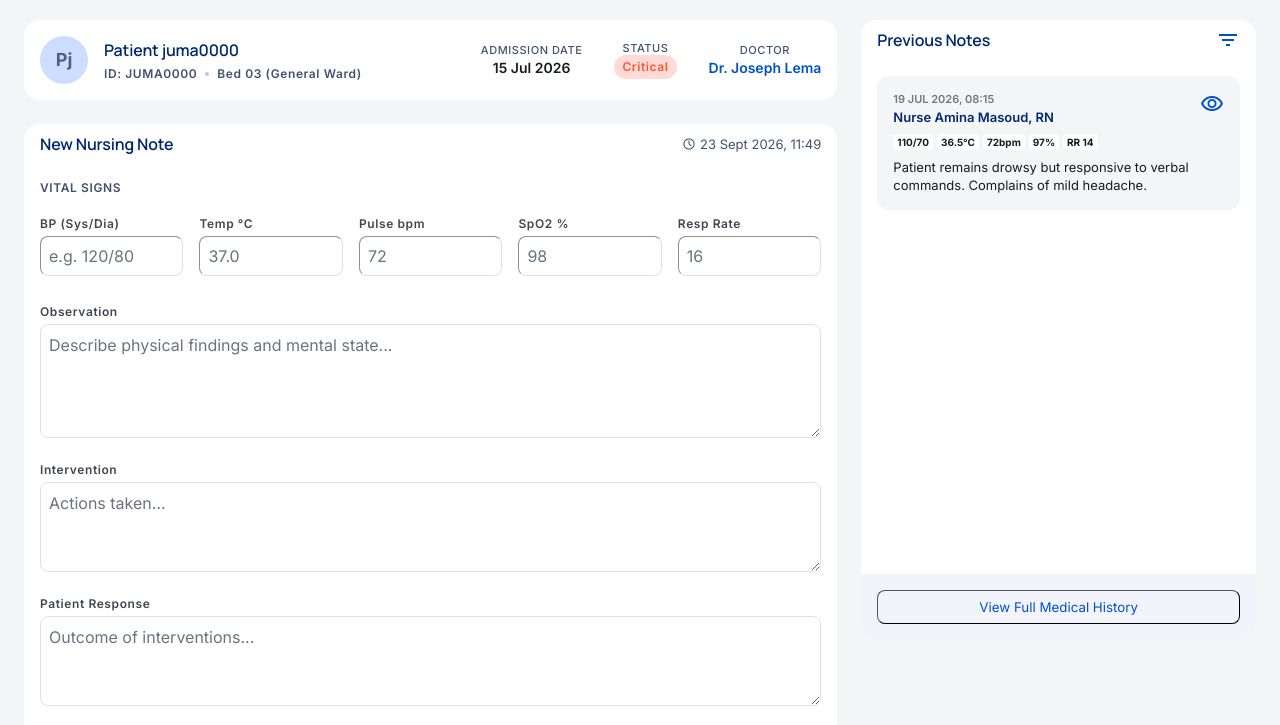
Test: NursingNotesPage › submits a new nursing note entry successfully
Type "Patient is stable." into the text box labelled "Observation".
click(431, 381); type("Patient is stable.")  # box [40,324,821,438]
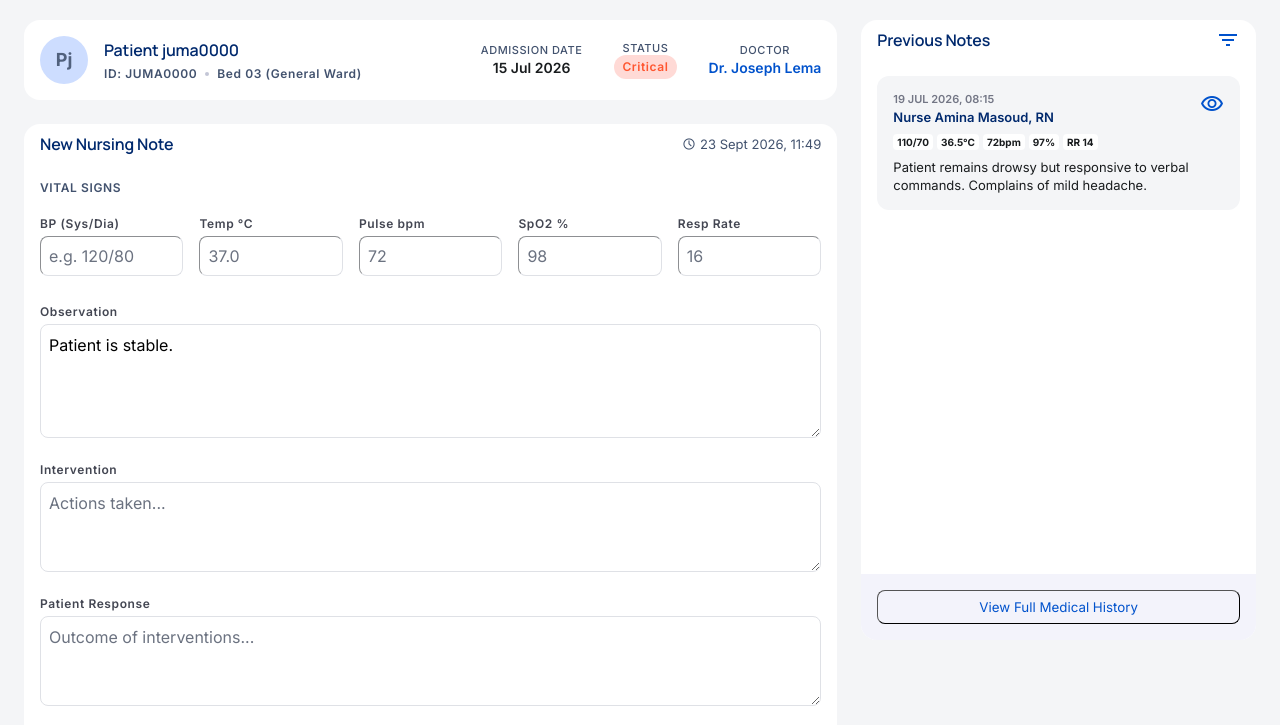
Type "Administered oral fluids." into the text box labelled "Intervention".
click(431, 527); type("Administered oral fluids.")  # box [40,482,821,572]
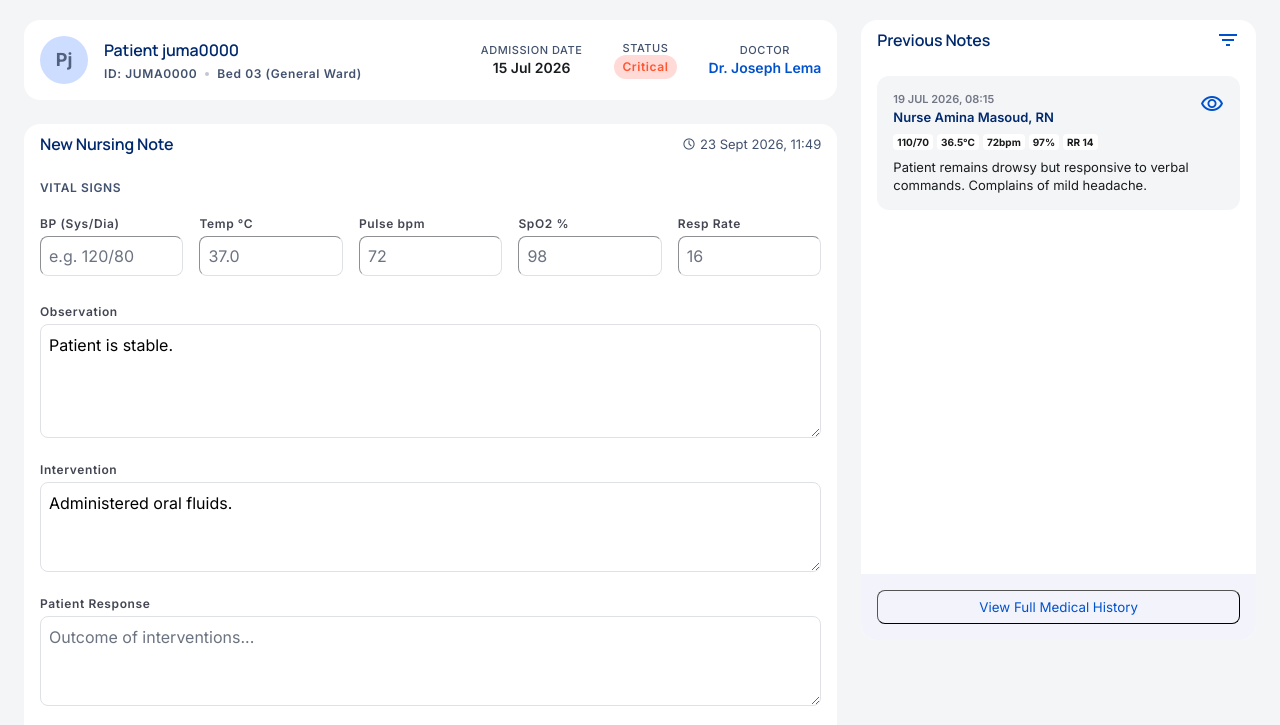
Type "No adverse reaction." into the text box labelled "Patient Response".
click(431, 661); type("No adverse reaction.")  # box [40,616,821,706]
(page scrolled)
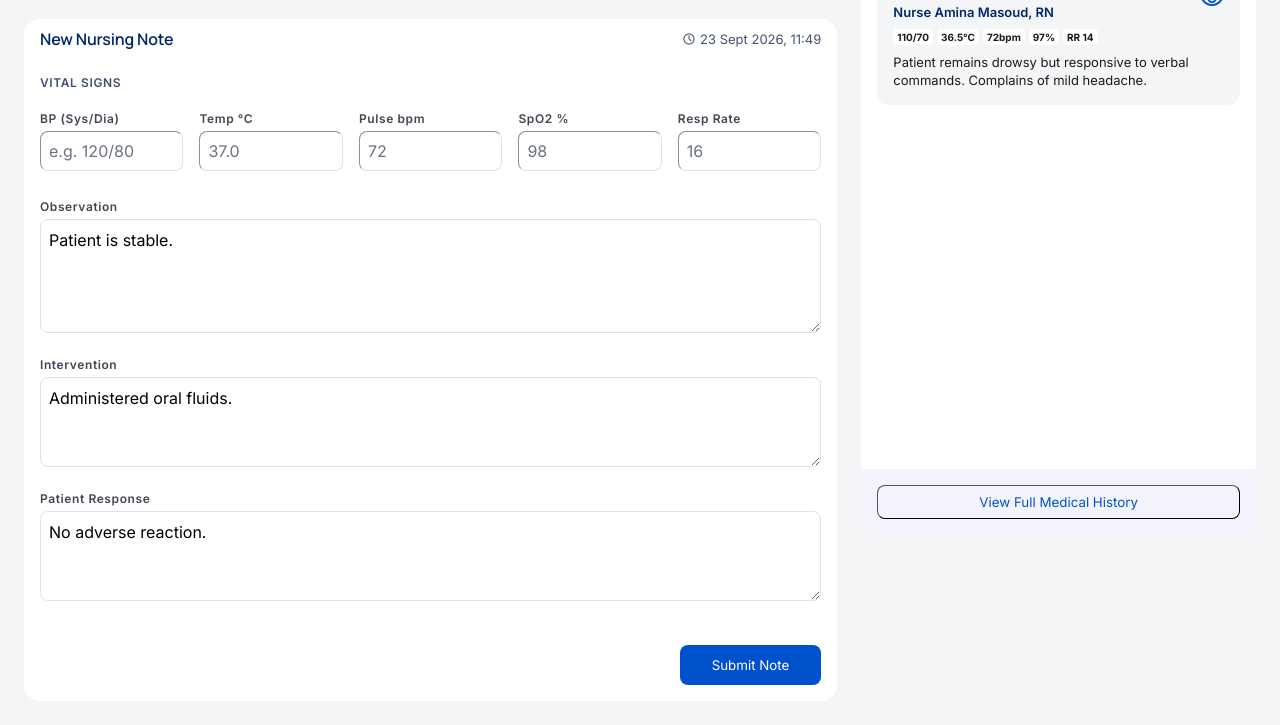
Click the button with aria-label "save record notes".
click(750, 665)  # box [680,645,821,685]
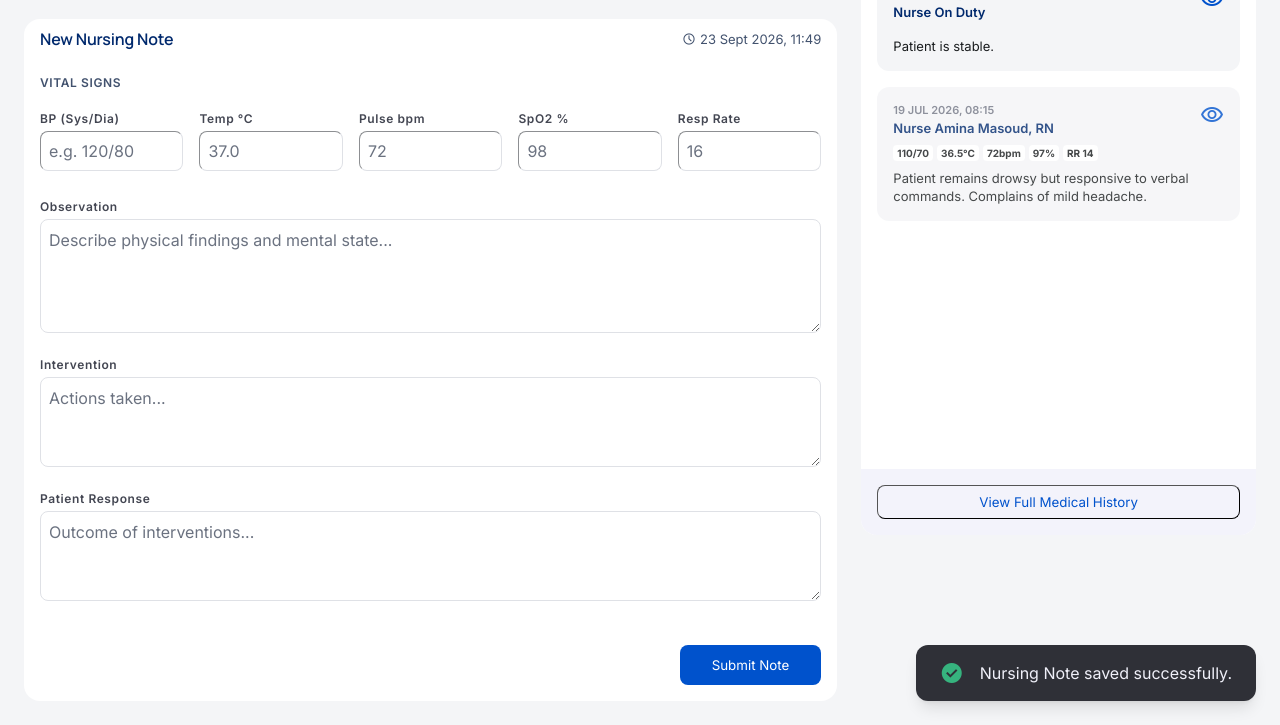
Now the text "Patient is stable." is shown, box [893,38,994,54]
